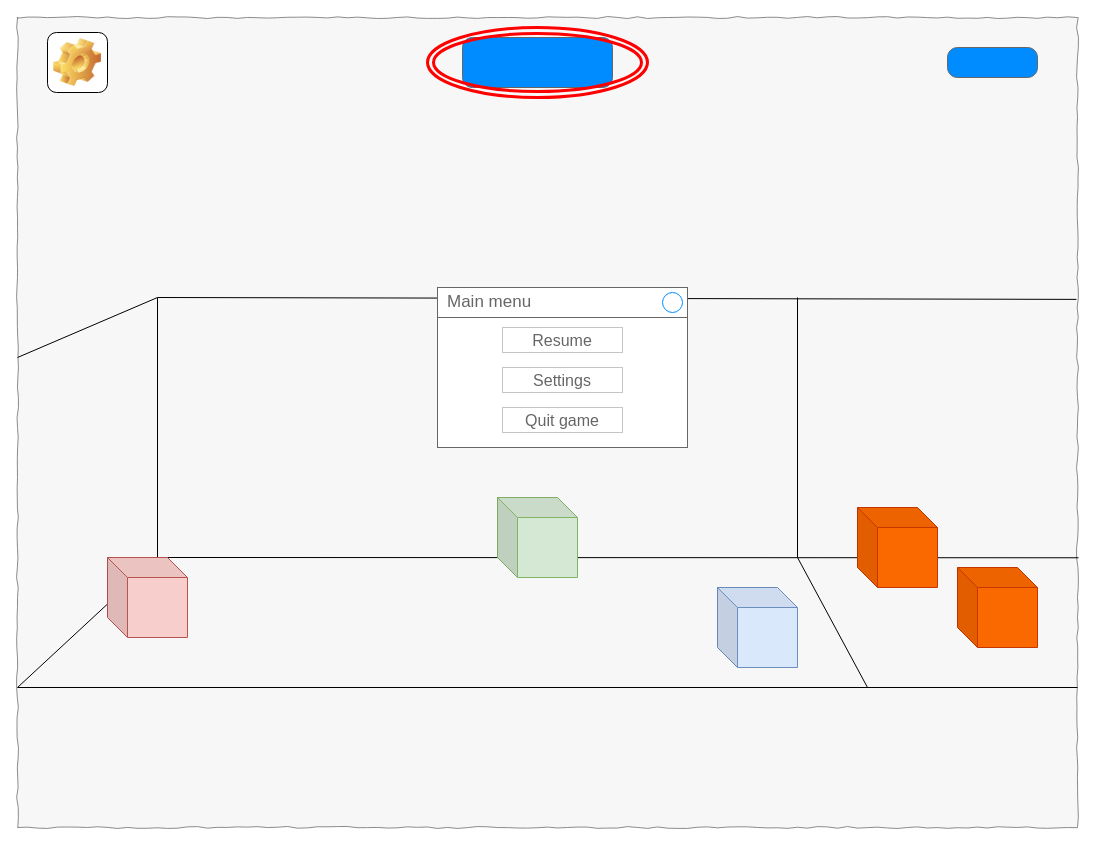
The diagram is 1098 pixels wide and 845 high, and some of its shapes have lost their labels. Each missing label, with the centre of its shape:
End the day: the point at 537,62
Inventory: the point at 992,62
